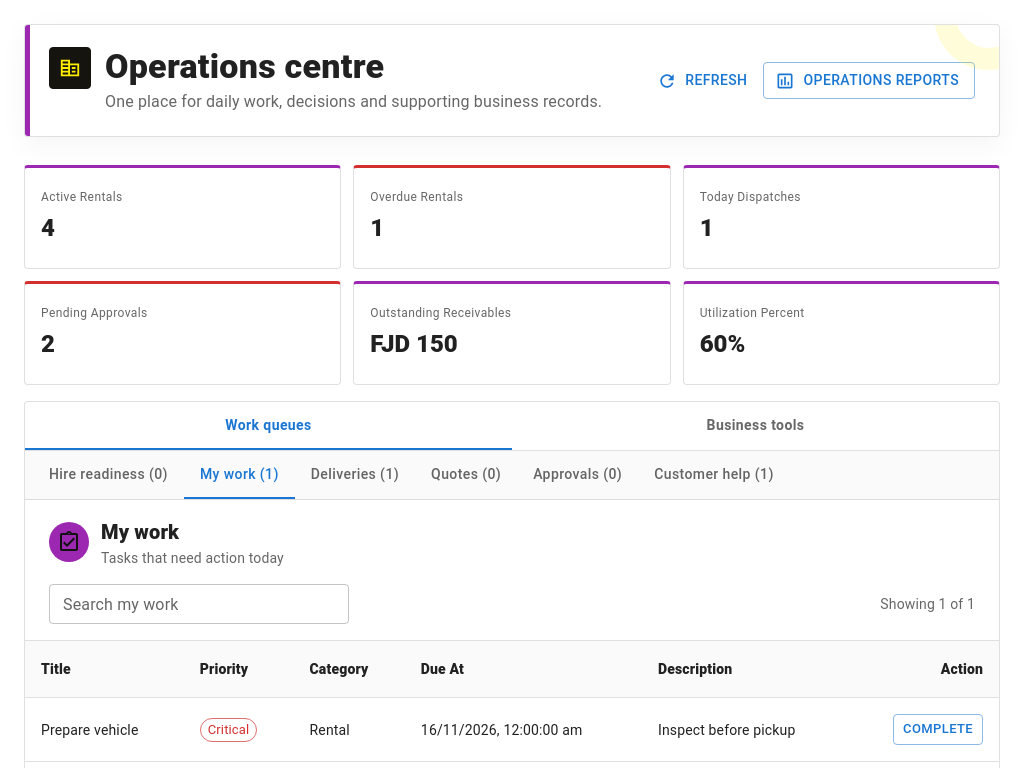
Test case: requires a delivery receiver before recording completed dispatch
Later steps or results of the test are not shown.
Expected: the text "Prepare vehicle" is shown, x1=25 y1=698 x2=184 y2=761
Click the tab "Deliveries (1)" at (355, 475), box x1=295 y1=451 x2=415 y2=499
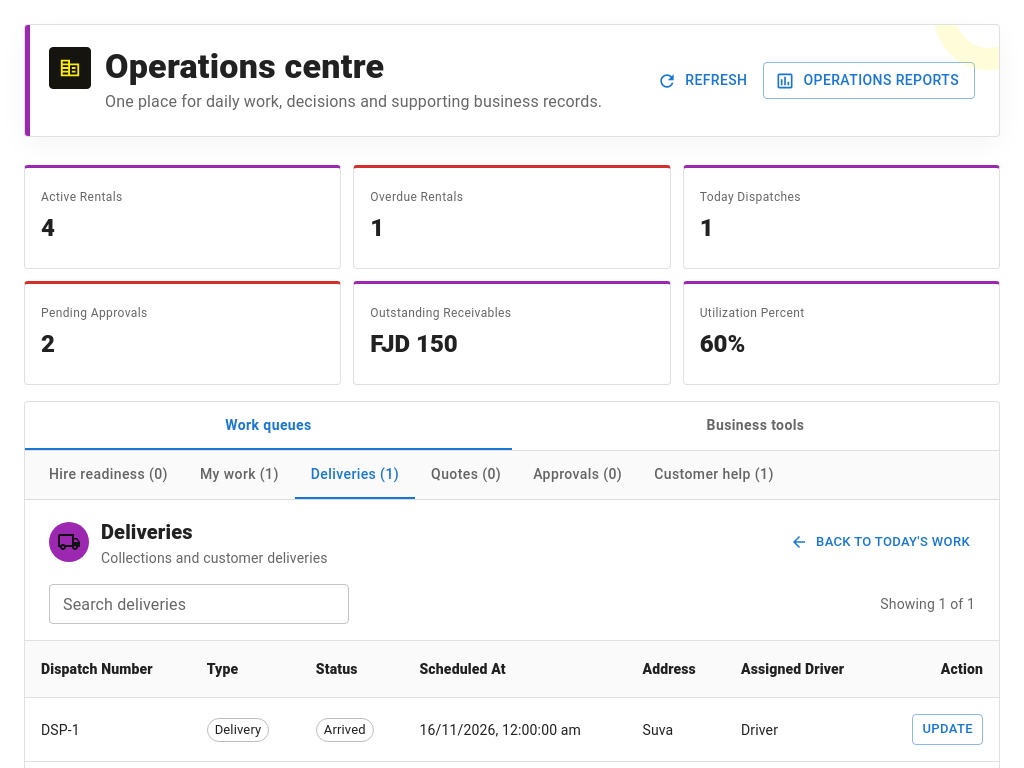
Click the button "Update" at (948, 730), box x1=912 y1=714 x2=983 y2=745
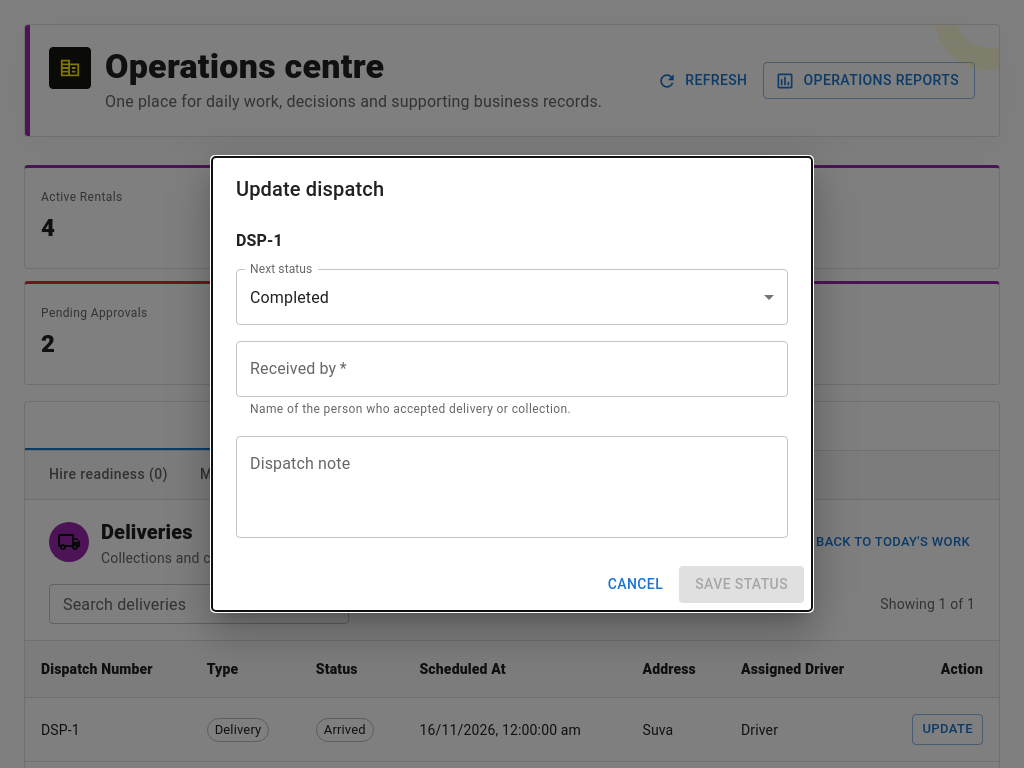
Expected: the button "Save status" is disabled, x1=679 y1=566 x2=804 y2=603
